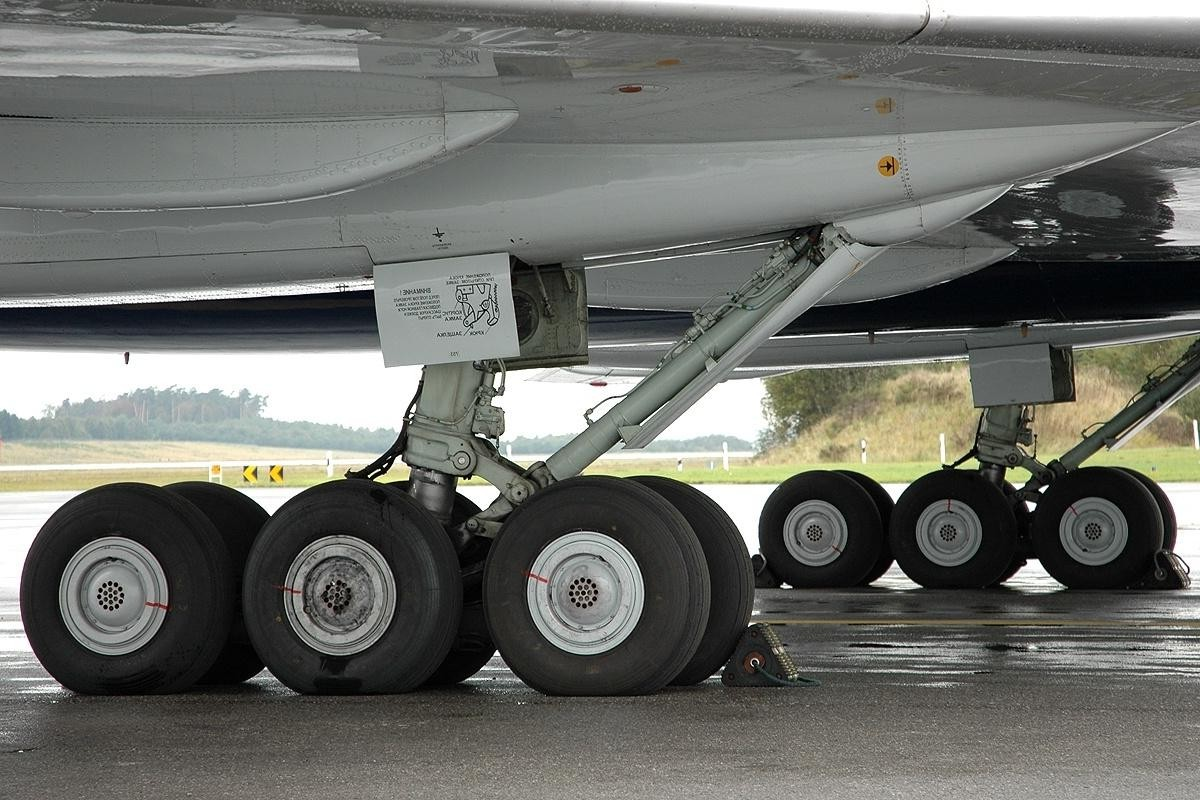chock: (717, 619, 807, 692), (1138, 547, 1196, 592), (747, 550, 782, 591)
wheel: (480, 473, 717, 699), (240, 479, 463, 701), (17, 481, 226, 699), (1030, 468, 1161, 592), (892, 472, 1020, 593), (759, 466, 883, 589)
